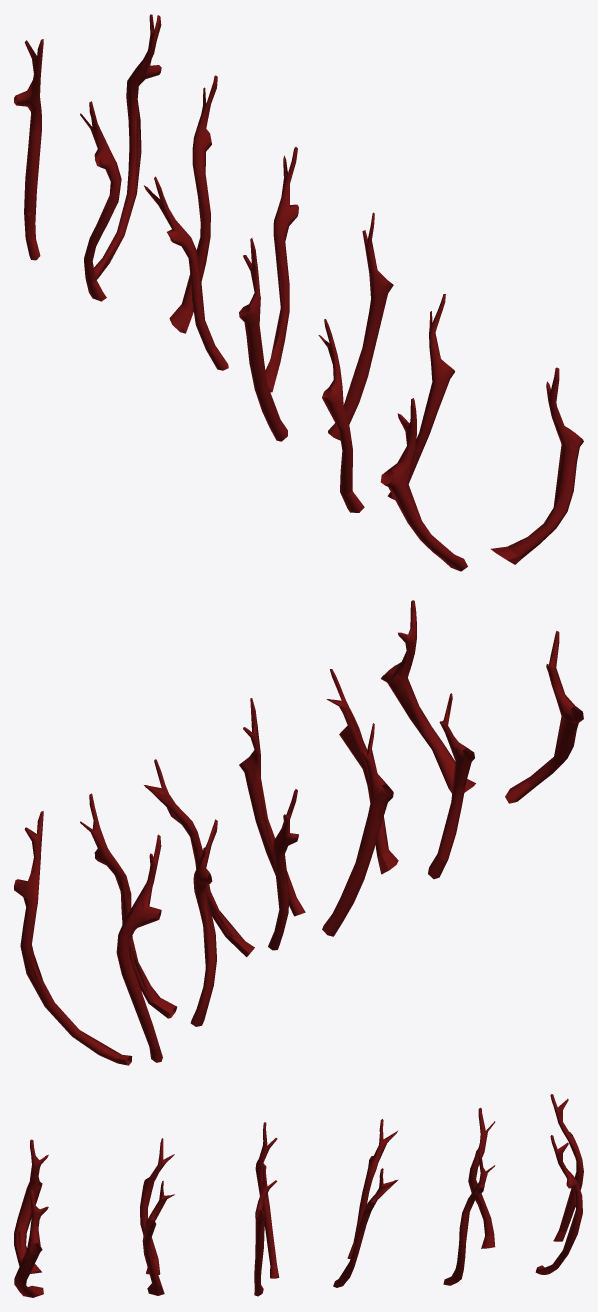
Rendered from arteriae lumbales.fbx.
3 renders of one model, top to bottom at view 1: azimuth 30°, elevation 25°; view 2: azimuth 150°, elevation 25°; view 3: azimuth 270°, elevation 25°, orthographic. The views are drawn at different scales.
Parts seen in each view (by area): view 1: arteriae lumbales, arteriae lumbales low; view 2: arteriae lumbales, arteriae lumbales low; view 3: arteriae lumbales, arteriae lumbales low.
Part boxes in pixels (left/top/right/bottom): arteriae lumbales: left=14, top=14, right=583, bottom=571; arteriae lumbales low: left=14, top=15, right=582, bottom=571; arteriae lumbales: left=14, top=600, right=583, bottom=1065; arteriae lumbales low: left=14, top=603, right=583, bottom=1064; arteriae lumbales: left=14, top=1094, right=583, bottom=1297; arteriae lumbales low: left=15, top=1094, right=583, bottom=1297.
Size of the model in its own units: 6.05 by 7.77 by 22.25.
